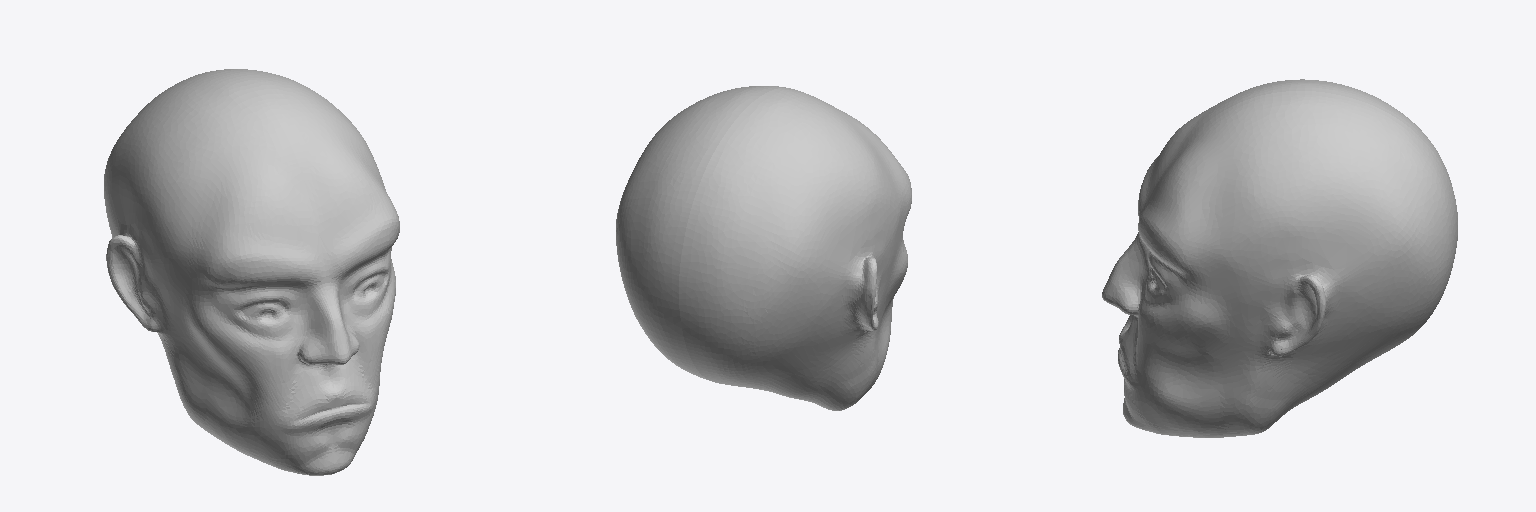
File: HeadStudy(Decemated).OBJ
3 renders of one model, left to right at view 1: azimuth 30°, elevation 25°; view 2: azimuth 150°, elevation 25°; view 3: azimuth 270°, elevation 25°, orthographic.
Parts seen in each view (by area): view 1: Group15343; view 2: Group15343; view 3: Group15343.
Part boxes in pixels (bbox=[...]): Group15343: bbox=[104, 69, 399, 475]; Group15343: bbox=[616, 86, 911, 410]; Group15343: bbox=[1102, 79, 1457, 437].
Bounding box in the file's own units: 1.25 × 1.53 × 1.5.